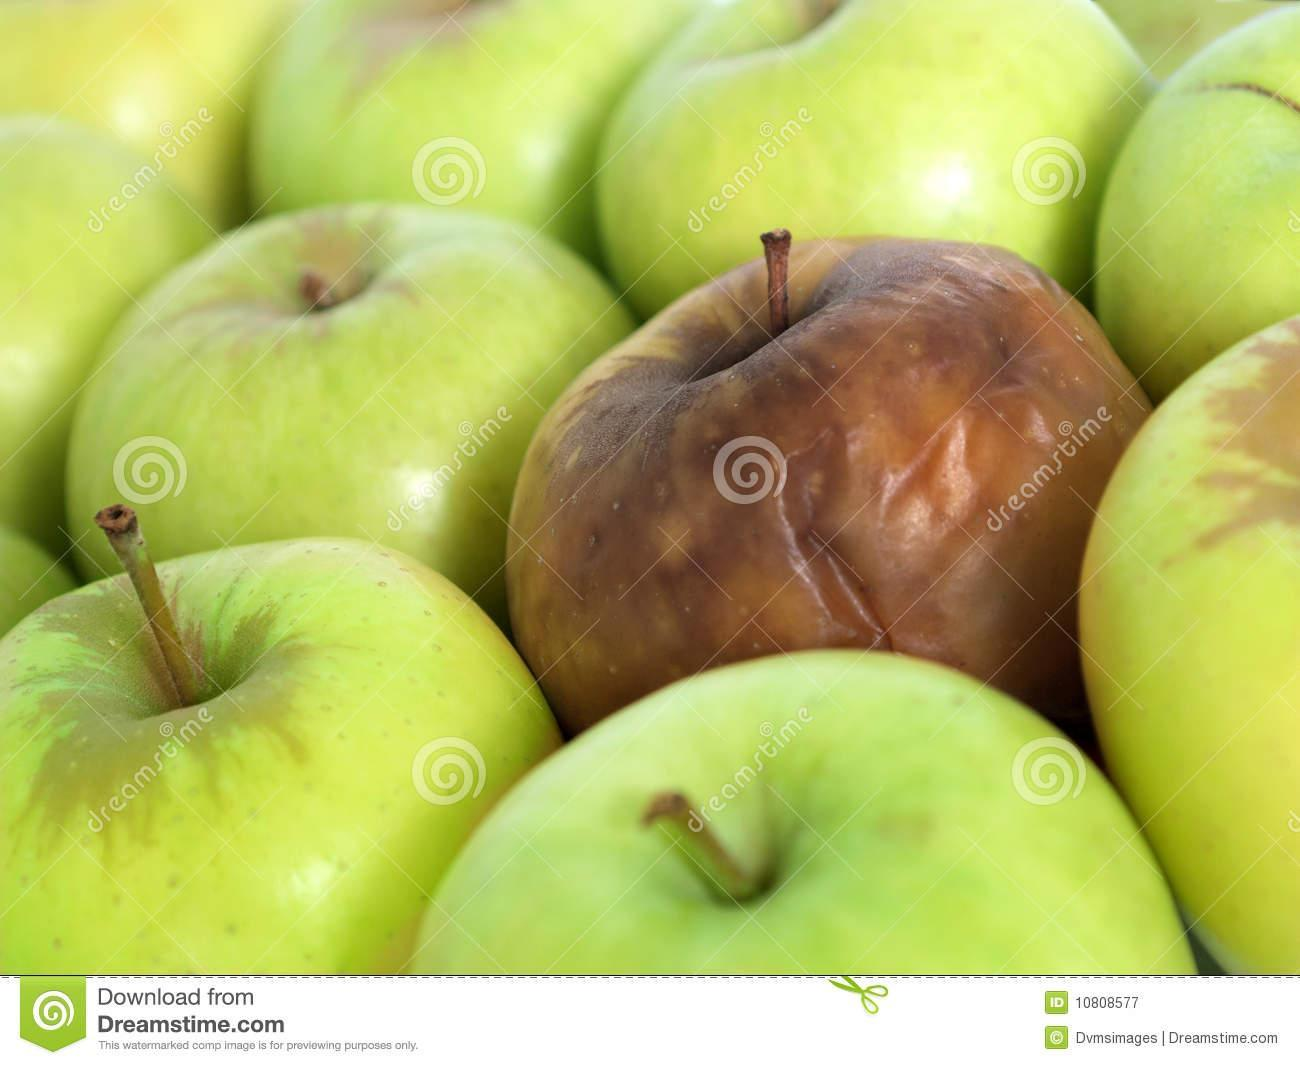apple: (505, 234, 1154, 729)
